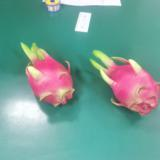pitaya: (101, 56, 159, 114), (24, 48, 76, 106)
